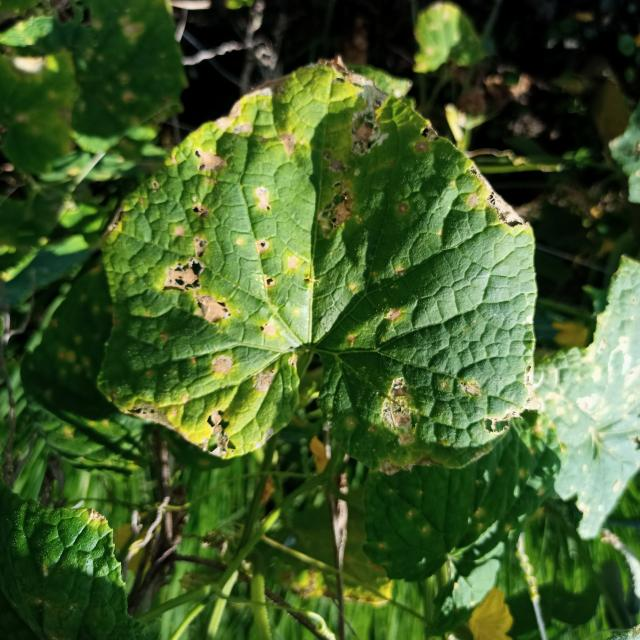disease_cucumber: (116, 83, 502, 463)
